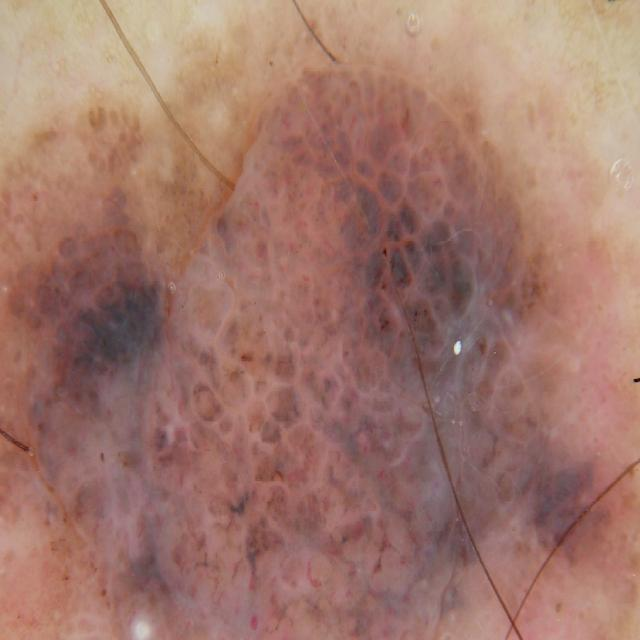Melanoma: (0, 58, 640, 640)
